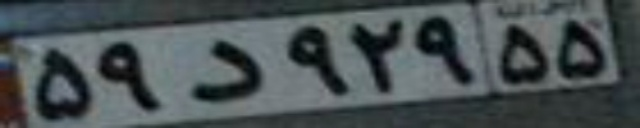2: (347, 19, 406, 93)
5: (32, 49, 89, 119), (549, 21, 610, 79), (496, 25, 549, 83)
9: (280, 26, 346, 95), (97, 42, 155, 109), (412, 18, 473, 80)
dal: (189, 39, 264, 100)
